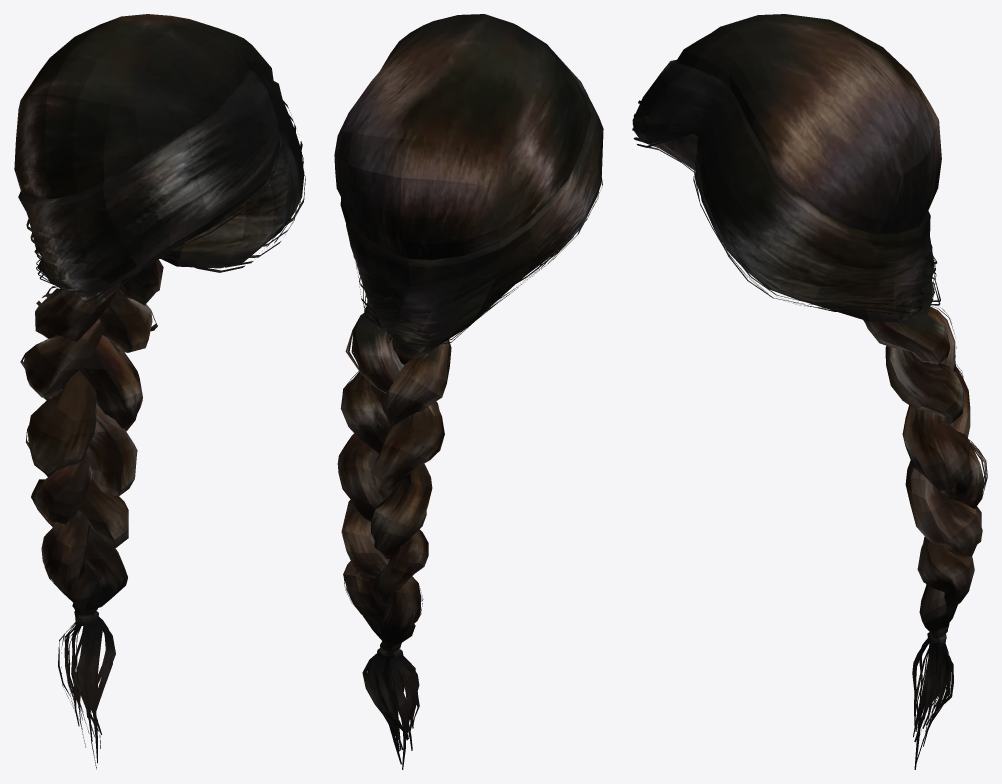
The model's file is braid01.glb.
3 views of the same model, side by side, from view 1: azimuth 30°, elevation 25°; view 2: azimuth 150°, elevation 25°; view 3: azimuth 270°, elevation 25° (orthographic). The views are drawn at different scales.
Parts seen in each view (by area): view 1: MakeHuman_braid01; view 2: MakeHuman_braid01; view 3: MakeHuman_braid01.
Part boxes in pixels (left/top/right/bottom): MakeHuman_braid01: left=14, top=14, right=305, bottom=769; MakeHuman_braid01: left=334, top=14, right=603, bottom=769; MakeHuman_braid01: left=632, top=14, right=987, bottom=769.
Bounding box in the file's own units: 0.1895 × 0.5997 × 0.2592.
1 material, 1 textured.
